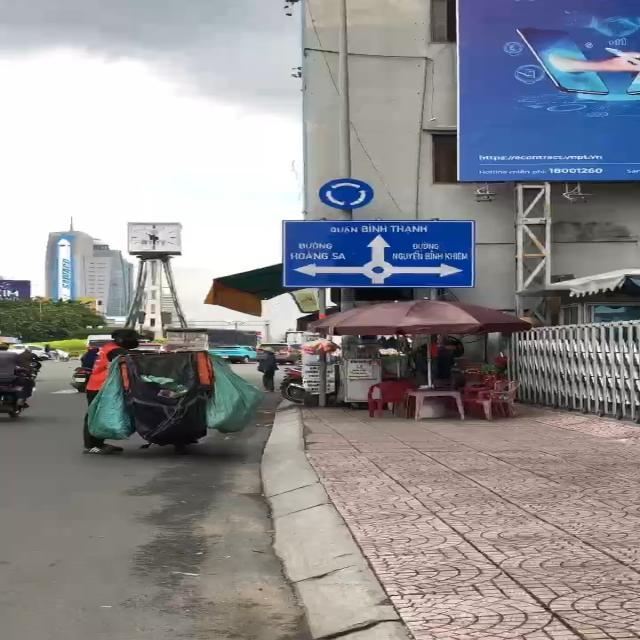Bien bao noi giao nhau chay theo vong xuyen: (314, 176, 379, 209)
